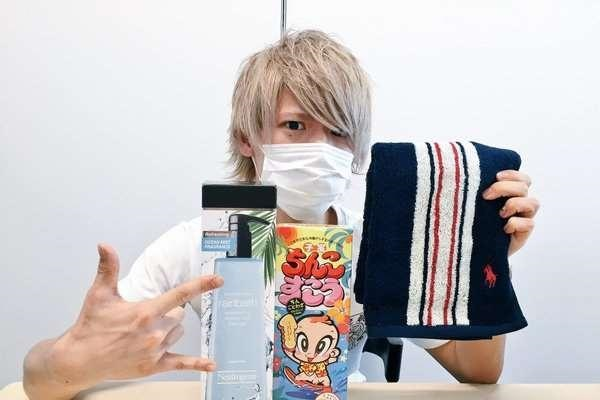face_mask: (258, 84, 359, 220)
